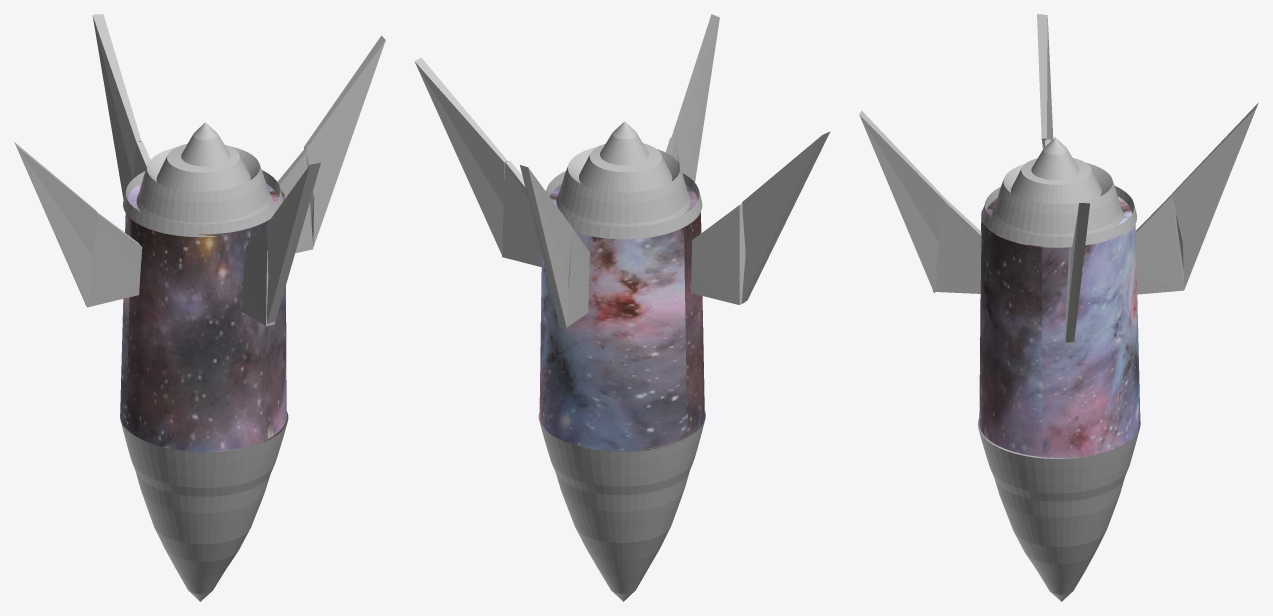
File: TSBK07-Spaceship2.obj
3 views of the same model, side by side, from view 1: azimuth 30°, elevation 25°; view 2: azimuth 150°, elevation 25°; view 3: azimuth 270°, elevation 25° (orthographic). The views are drawn at different scales.
Visible parts, largest first — view 1: Cylinder.001, Bottom+Top.002_Sphere.000, Bottom+Top.000_Sphere.001, Leg4-Ground_a.003, Leg2-Ground_a.001, Leg3-Ground_a.002, Leg2-Attached_Cube.000, Leg1-Ground_a, Leg3-Attached_Cube.001, Leg4-Attached_Cube.003; view 2: Cylinder.001, Bottom+Top.002_Sphere.000, Bottom+Top.000_Sphere.001, Leg4-Ground_a.003, Leg2-Ground_a.001, Leg2-Attached_Cube.000, Leg1-Ground_a, Leg3-Ground_a.002, Leg4-Attached_Cube.003, Leg1-Att_Cube.002; view 3: Cylinder.001, Bottom+Top.002_Sphere.000, Bottom+Top.000_Sphere.001, Leg3-Ground_a.002, Leg1-Ground_a, Leg1-Att_Cube.002, Leg3-Attached_Cube.001, Leg4-Ground_a.003, Leg2-Ground_a.001.
Boxes of the visible parts, bbox=[...] form: Cylinder.001: bbox=[120, 182, 286, 451]; Bottom+Top.002_Sphere.000: bbox=[120, 411, 288, 601]; Bottom+Top.000_Sphere.001: bbox=[123, 122, 282, 237]; Leg4-Ground_a.003: bbox=[304, 35, 385, 246]; Leg2-Ground_a.001: bbox=[14, 142, 97, 307]; Leg3-Ground_a.002: bbox=[266, 163, 320, 326]; Leg2-Attached_Cube.000: bbox=[85, 212, 142, 307]; Leg1-Ground_a: bbox=[92, 14, 141, 199]; Leg3-Attached_Cube.001: bbox=[241, 224, 274, 325]; Leg4-Attached_Cube.003: bbox=[277, 149, 313, 253]; Cylinder.001: bbox=[539, 184, 704, 451]; Bottom+Top.002_Sphere.000: bbox=[538, 410, 705, 601]; Bottom+Top.000_Sphere.001: bbox=[546, 121, 702, 239]; Leg4-Ground_a.003: bbox=[414, 57, 507, 255]; Leg2-Ground_a.001: bbox=[741, 131, 830, 303]; Leg2-Attached_Cube.000: bbox=[691, 203, 745, 304]; Leg1-Ground_a: bbox=[520, 165, 572, 328]; Leg3-Ground_a.002: bbox=[671, 14, 719, 182]; Leg4-Attached_Cube.003: bbox=[502, 161, 541, 266]; Leg1-Att_Cube.002: bbox=[559, 229, 589, 328]; Cylinder.001: bbox=[979, 196, 1140, 457]; Bottom+Top.002_Sphere.000: bbox=[977, 418, 1140, 601]; Bottom+Top.000_Sphere.001: bbox=[982, 137, 1136, 247]; Leg3-Ground_a.002: bbox=[859, 110, 945, 293]; Leg1-Ground_a: bbox=[1171, 103, 1258, 289]; Leg1-Att_Cube.002: bbox=[1136, 194, 1184, 294]; Leg3-Attached_Cube.001: bbox=[932, 199, 981, 293]; Leg4-Ground_a.003: bbox=[1065, 203, 1089, 342]; Leg2-Ground_a.001: bbox=[1037, 14, 1053, 148].
Size of the model in its own units: 5.44 by 6.82 by 4.97.
